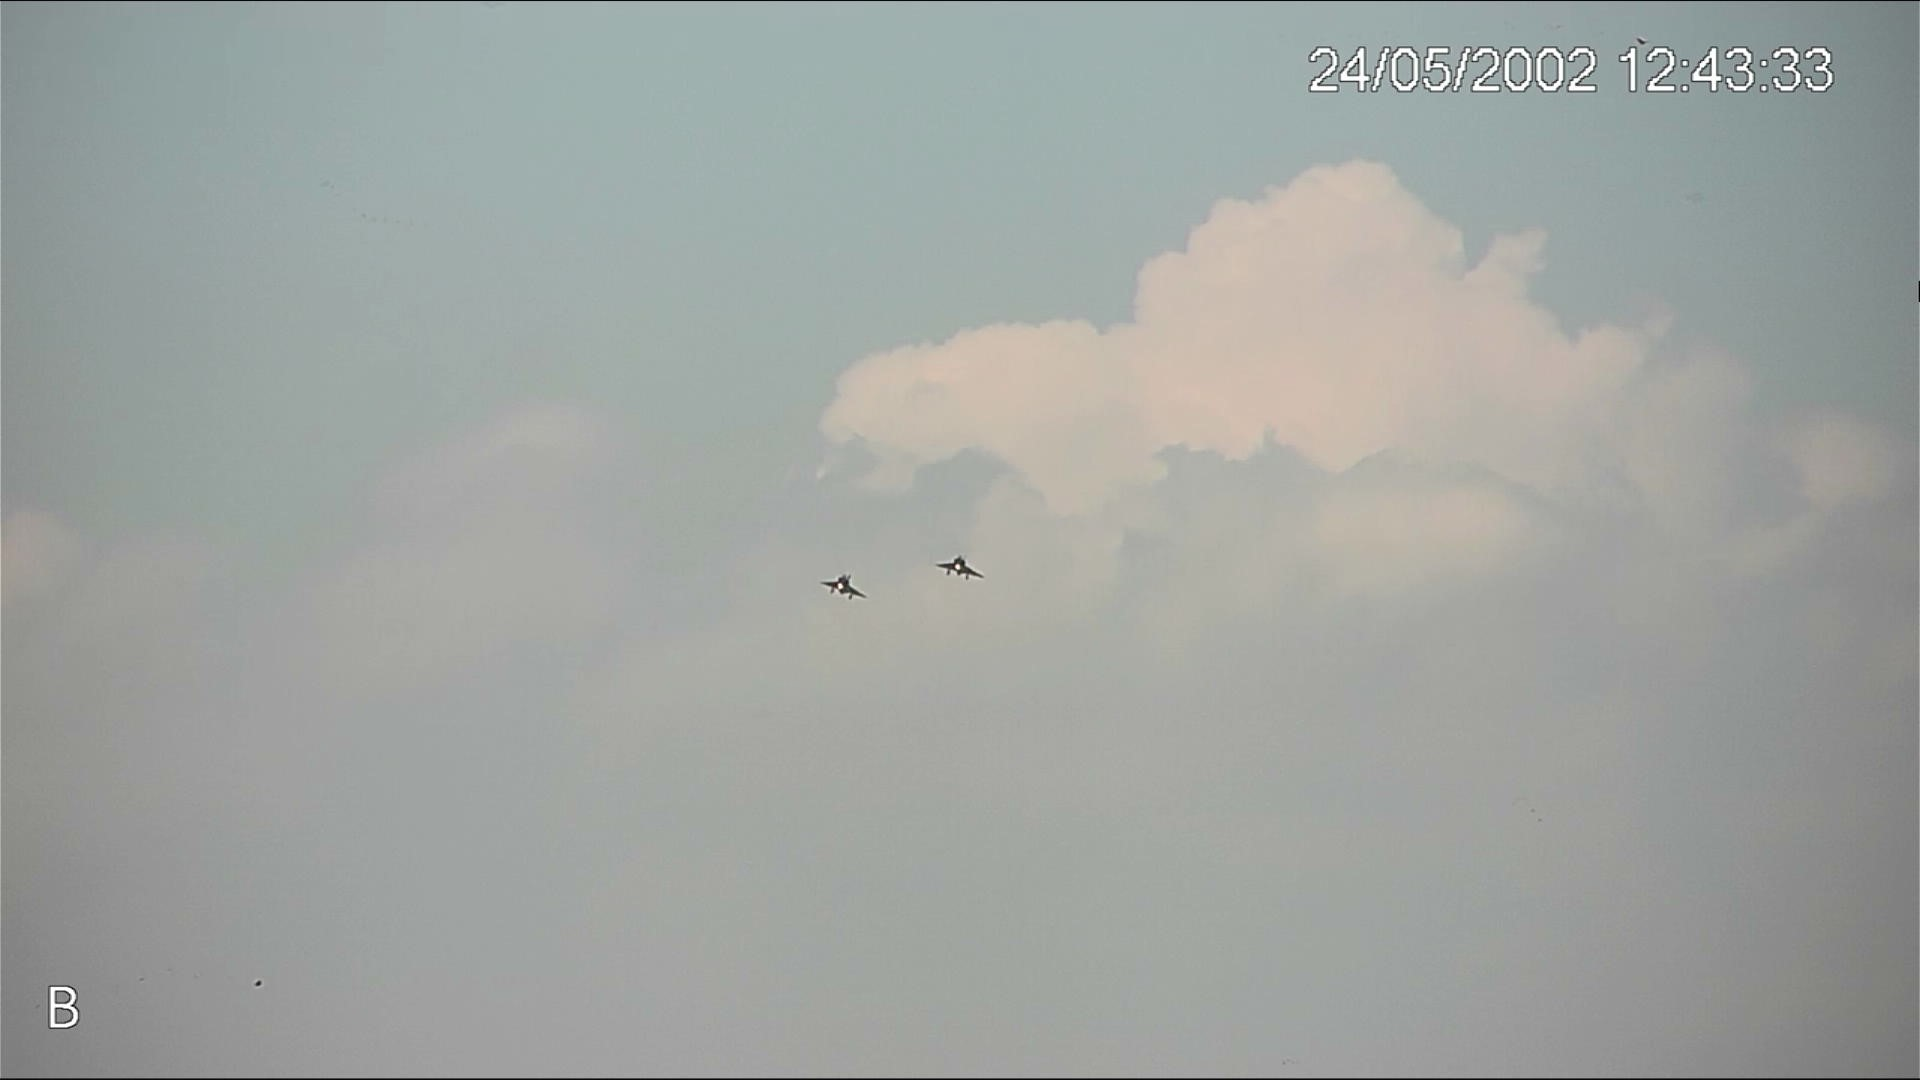SU_30: (820, 574, 872, 603), (934, 554, 985, 583)
